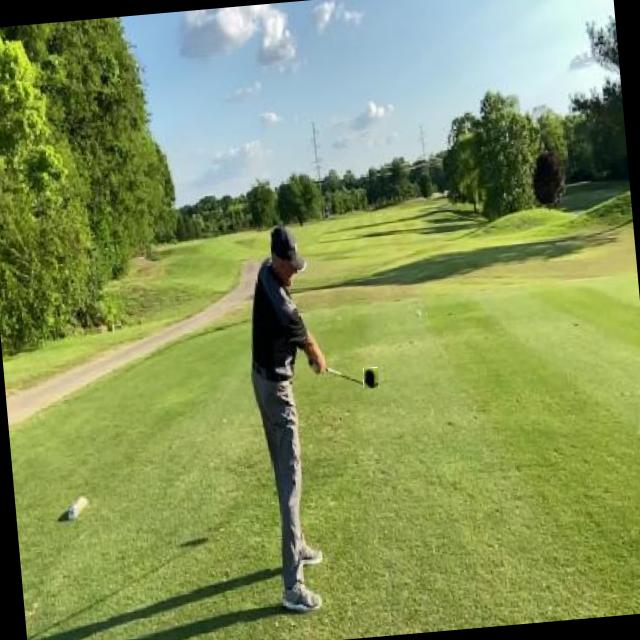club head: (362, 366, 379, 388)
